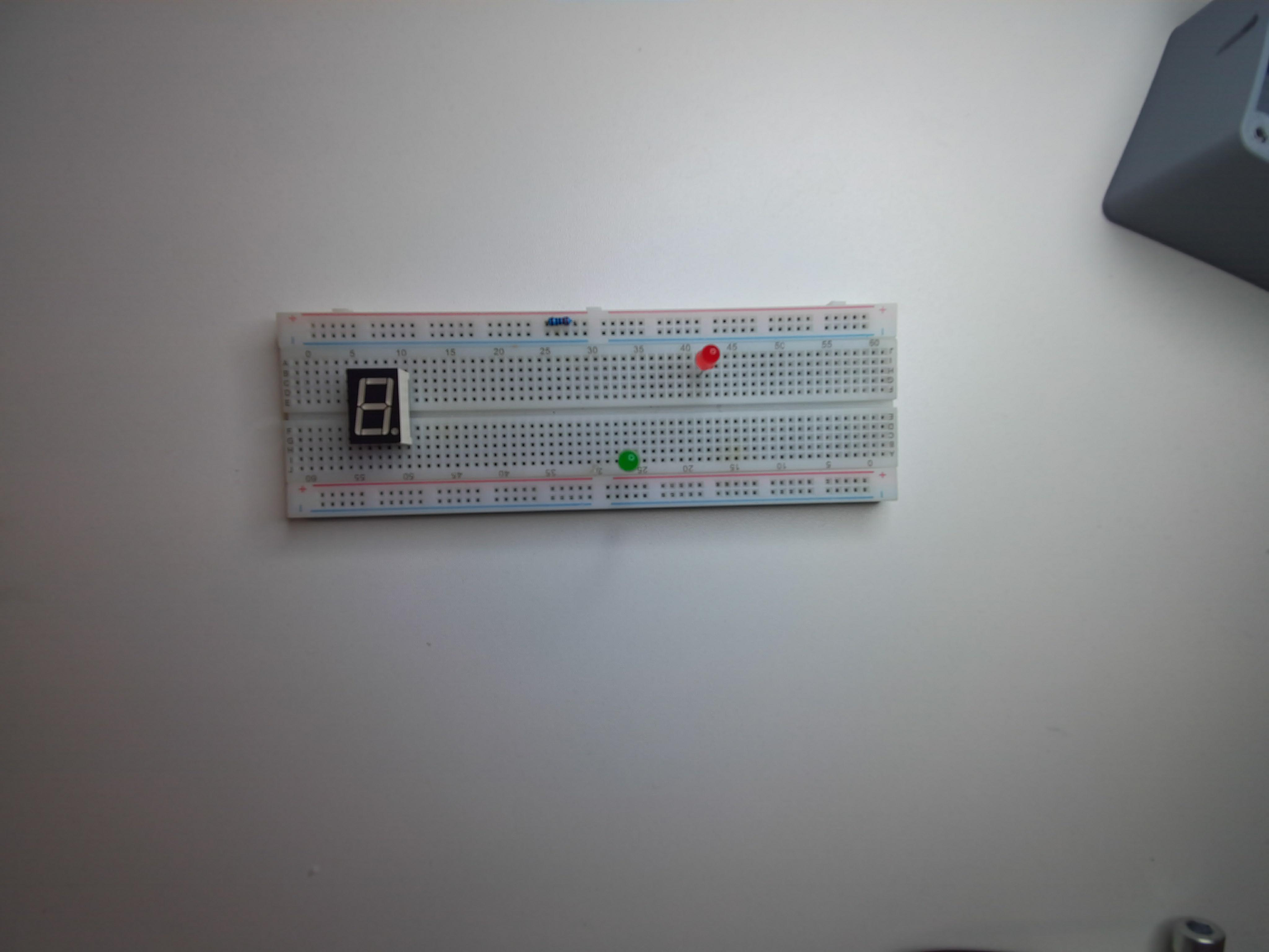base: (272, 305, 900, 525)
digit-board: (345, 365, 404, 448)
green-led: (618, 450, 642, 474)
red-led: (695, 344, 721, 368)
resistor-small: (542, 312, 577, 329)
